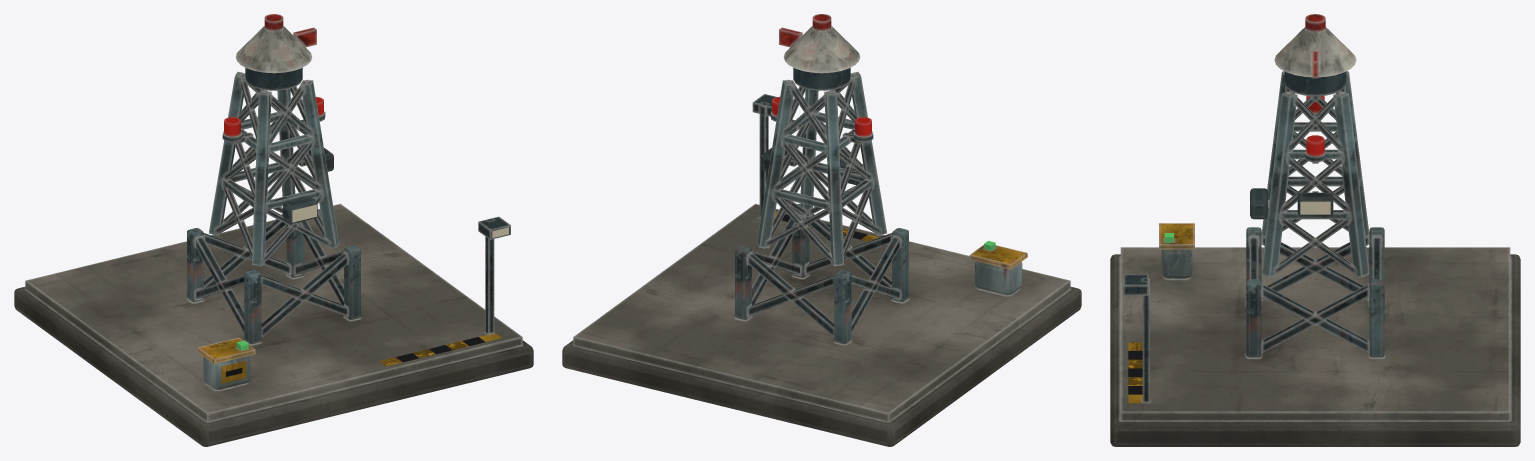
The model's file is sensor_post.glb.
3 views of the same model, side by side, from view 1: azimuth 30°, elevation 25°; view 2: azimuth 150°, elevation 25°; view 3: azimuth 270°, elevation 25° (orthographic). The views are drawn at different scales.
Parts seen in each view (by area): view 1: te_sensor_post, move_sensor; view 2: te_sensor_post, move_sensor; view 3: te_sensor_post, move_sensor.
Boxes of the visible parts, bbox=[...] form: te_sensor_post: bbox=[14, 68, 533, 446]; move_sensor: bbox=[235, 14, 316, 73]; te_sensor_post: bbox=[562, 68, 1081, 446]; move_sensor: bbox=[779, 14, 860, 73]; te_sensor_post: bbox=[1110, 71, 1520, 446]; move_sensor: bbox=[1274, 14, 1356, 78].
Bounding box in the file's own units: 0.8 × 0.74 × 0.8.
1 material, 1 textured.
